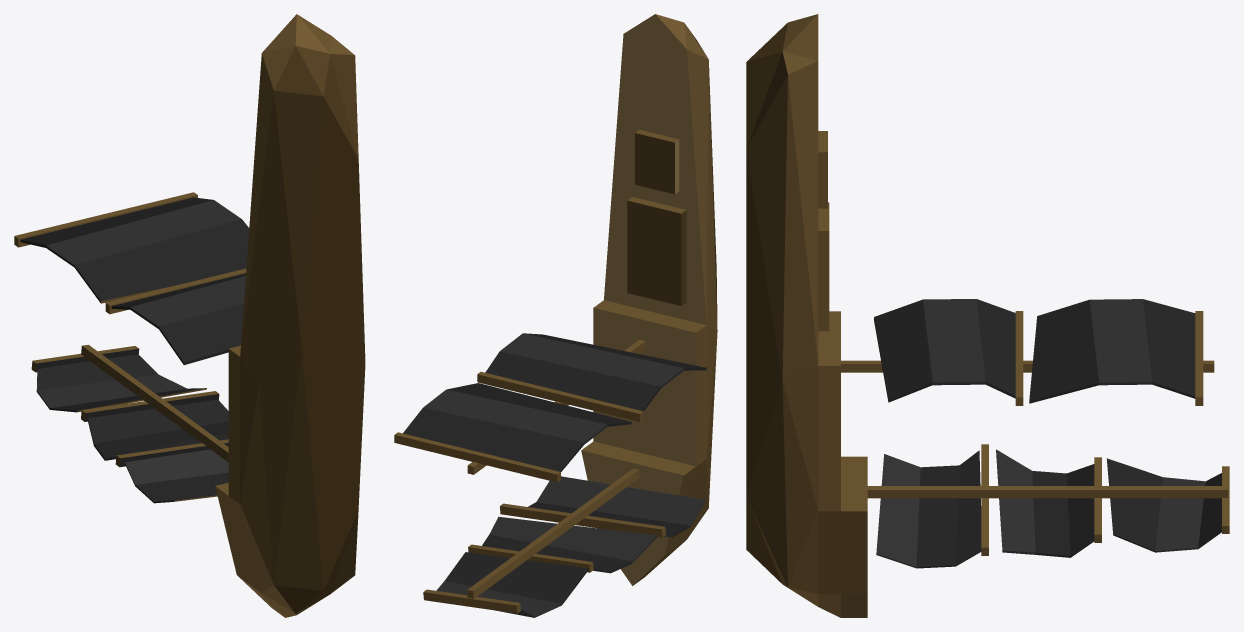
Rendered from ship_1.fbx.
The picture shows the model from 3 angles, left to right: view 1: azimuth 30°, elevation 25°; view 2: azimuth 150°, elevation 25°; view 3: azimuth 270°, elevation 25°; orthographic projection. The views are drawn at different scales.
Visible parts, largest first — view 1: Plane.005; view 2: Plane.005; view 3: Plane.005.
Part boxes in pixels (bbox=[...]): Plane.005: bbox=[14, 14, 365, 617]; Plane.005: bbox=[394, 14, 717, 617]; Plane.005: bbox=[746, 14, 1229, 617].
Bounding box in the file's own units: 52.89 × 166 × 120.
